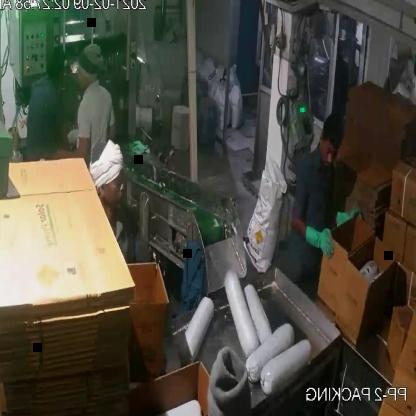glove: (299, 225, 343, 263), (332, 207, 362, 237)
